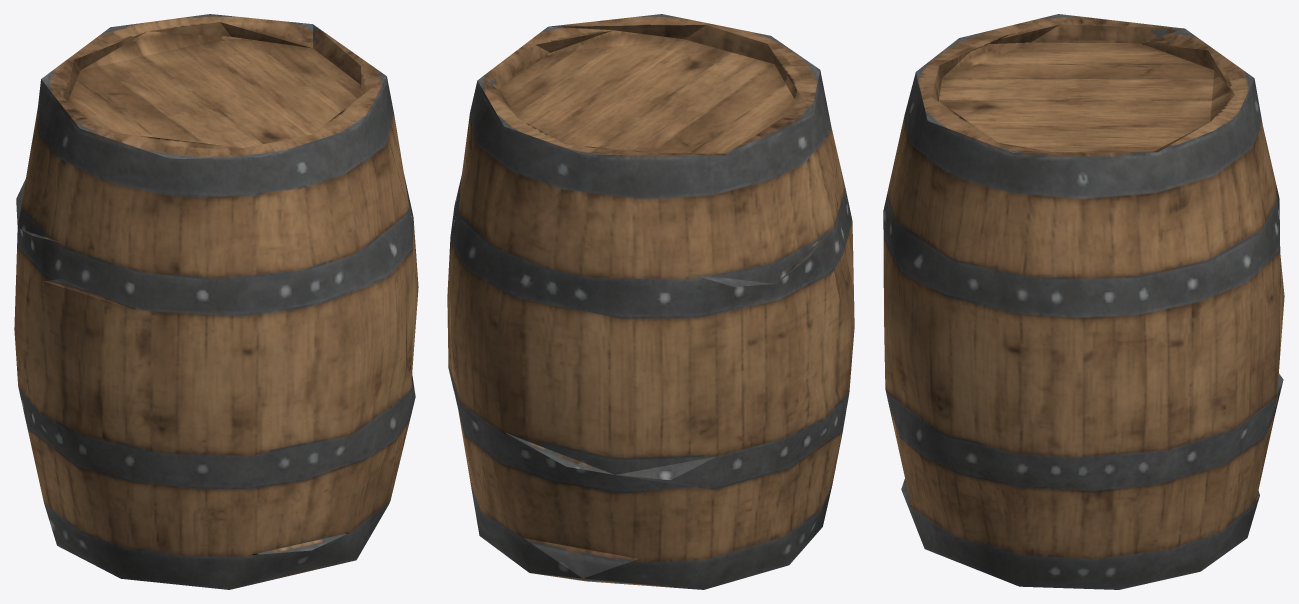
The model's file is barrel_lod0.glb.
3 views of the same model, side by side, from view 1: azimuth 30°, elevation 25°; view 2: azimuth 150°, elevation 25°; view 3: azimuth 270°, elevation 25° (orthographic).
Visible parts, largest first — view 1: low; view 2: low; view 3: low.
Boxes of the visible parts, x1,y1,x2,y2 form: low: (14,14,418,589); low: (447,14,854,589); low: (883,14,1284,589).
Size of the model in its own units: 0.8928 by 1.07 by 0.8911.
Materials: 1 (1 with a texture image).
